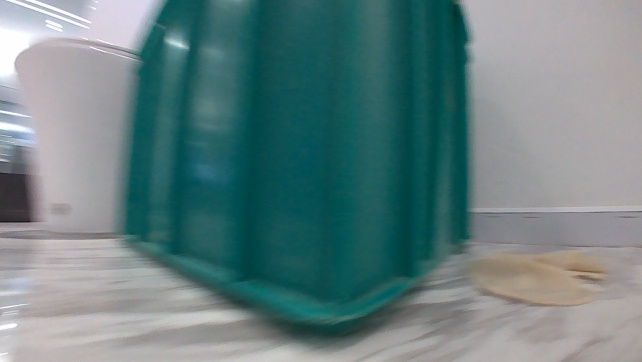socks: (461, 245, 610, 308)
toilet: (5, 33, 141, 238)
